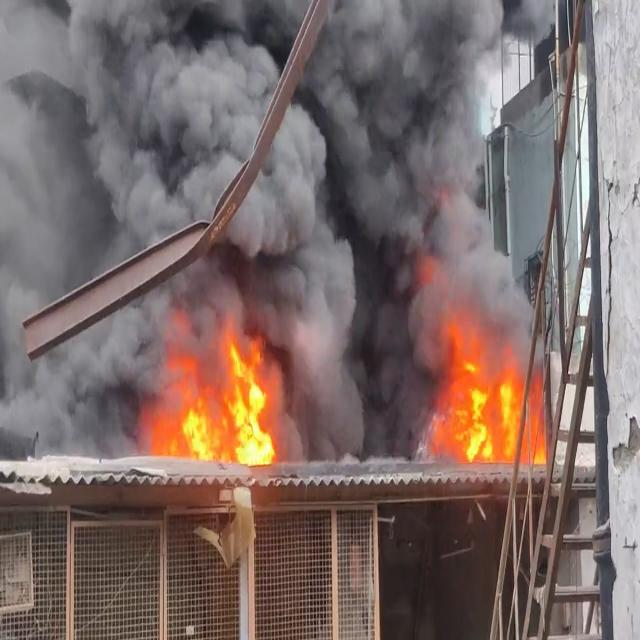Fire: (151, 295, 302, 468), (420, 302, 530, 464)
Smoke: (209, 0, 532, 463), (0, 0, 314, 460)
